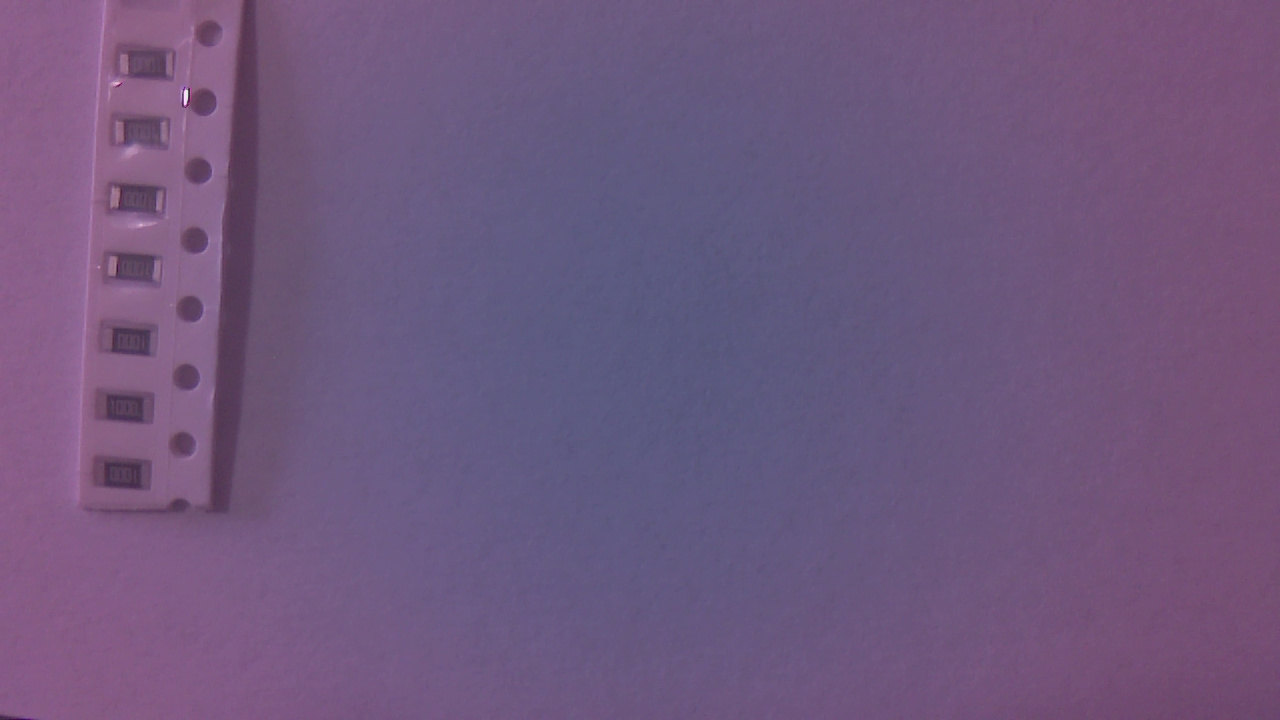Resistor: (114, 186, 175, 221), (100, 394, 161, 429), (106, 328, 166, 363), (122, 53, 184, 86), (115, 121, 176, 154), (97, 461, 156, 495), (118, 258, 176, 292)
